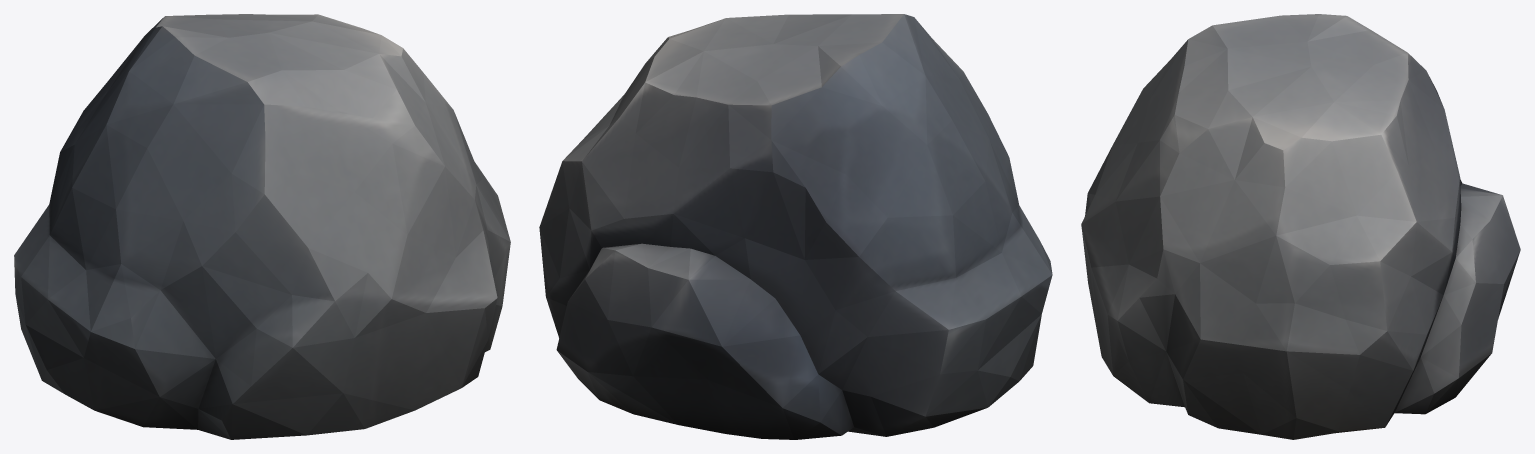
Rendered from rock.glb.
The picture shows the model from 3 angles, left to right: view 1: azimuth 30°, elevation 25°; view 2: azimuth 150°, elevation 25°; view 3: azimuth 270°, elevation 25°; orthographic projection. The views are drawn at different scales.
Parts seen in each view (by area): view 1: geometry_0; view 2: geometry_0; view 3: geometry_0.
Boxes of the visible parts, bbox=[...] form: geometry_0: bbox=[14, 14, 510, 439]; geometry_0: bbox=[539, 14, 1052, 439]; geometry_0: bbox=[1081, 14, 1520, 439].
Bounding box in the file's own units: 0.998 × 0.708 × 0.9251.
Materials: 1 (1 with a texture image).
